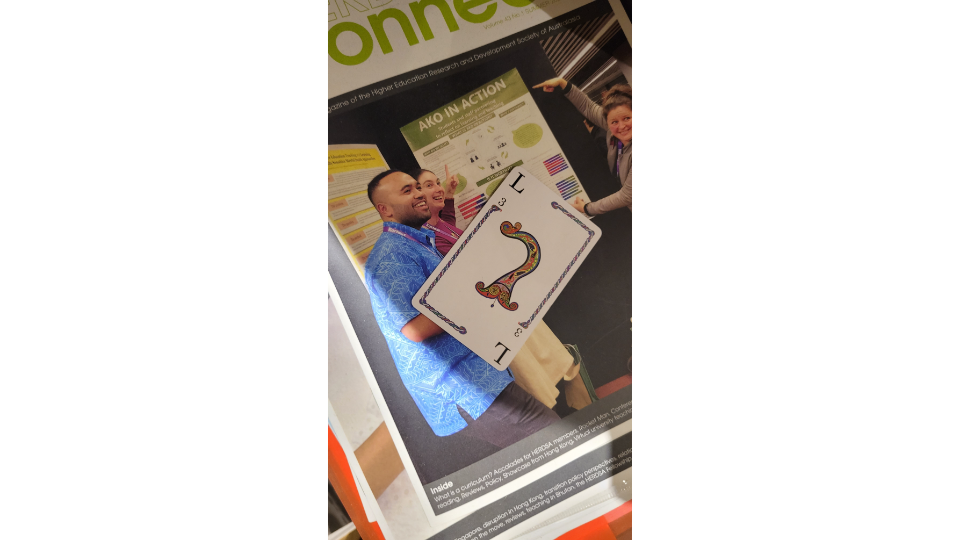L: (411, 164, 604, 372)
